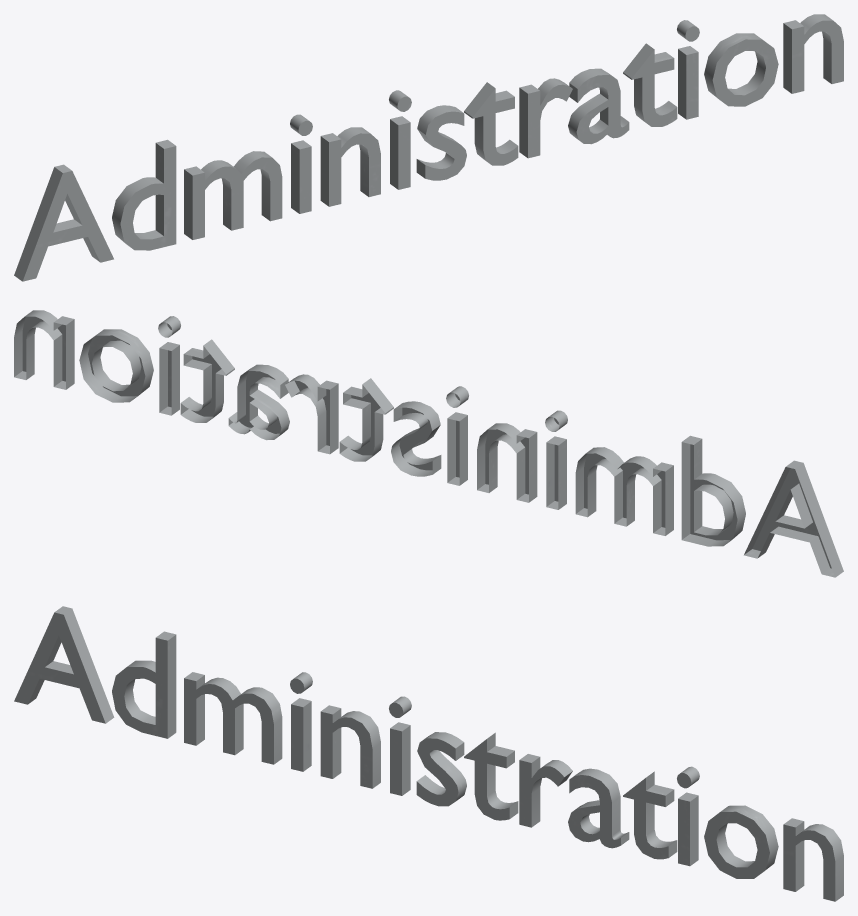
The model's file is SM_Text_Administration.fbx.
3 renders of one model, top to bottom at view 1: azimuth 30°, elevation 25°; view 2: azimuth 150°, elevation 25°; view 3: azimuth 330°, elevation 25°, orthographic.
Parts seen in each view (by area): view 1: SM_Text_Administration; view 2: SM_Text_Administration; view 3: SM_Text_Administration.
Boxes of the visible parts, x1,y1,x2,y2 form: SM_Text_Administration: (14, 14, 843, 281); SM_Text_Administration: (14, 310, 843, 577); SM_Text_Administration: (14, 606, 843, 901).
Size of the model in its own units: 173 by 3.12 by 20.1.
Materials: 1 (1 with a texture image).
